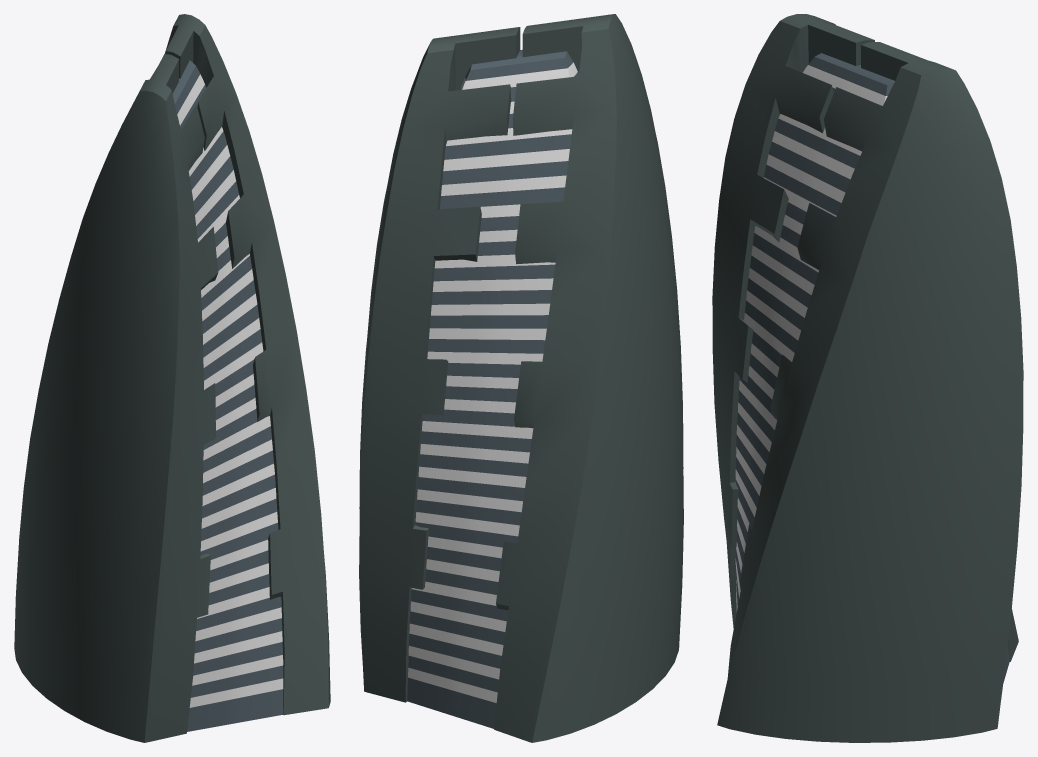
The model's file is Bld2.fbx.
3 renders of one model, left to right at view 1: azimuth 30°, elevation 25°; view 2: azimuth 150°, elevation 25°; view 3: azimuth 270°, elevation 25°, orthographic. The views are drawn at different scales.
Parts seen in each view (by area): view 1: building_107; view 2: building_107; view 3: building_107.
Part boxes in pixels (left/top/right/bottom): building_107: left=14, top=14, right=330, bottom=742; building_107: left=359, top=14, right=683, bottom=742; building_107: left=712, top=14, right=1023, bottom=742.
Size of the model in its own units: 1032 by 2572 by 1129.
